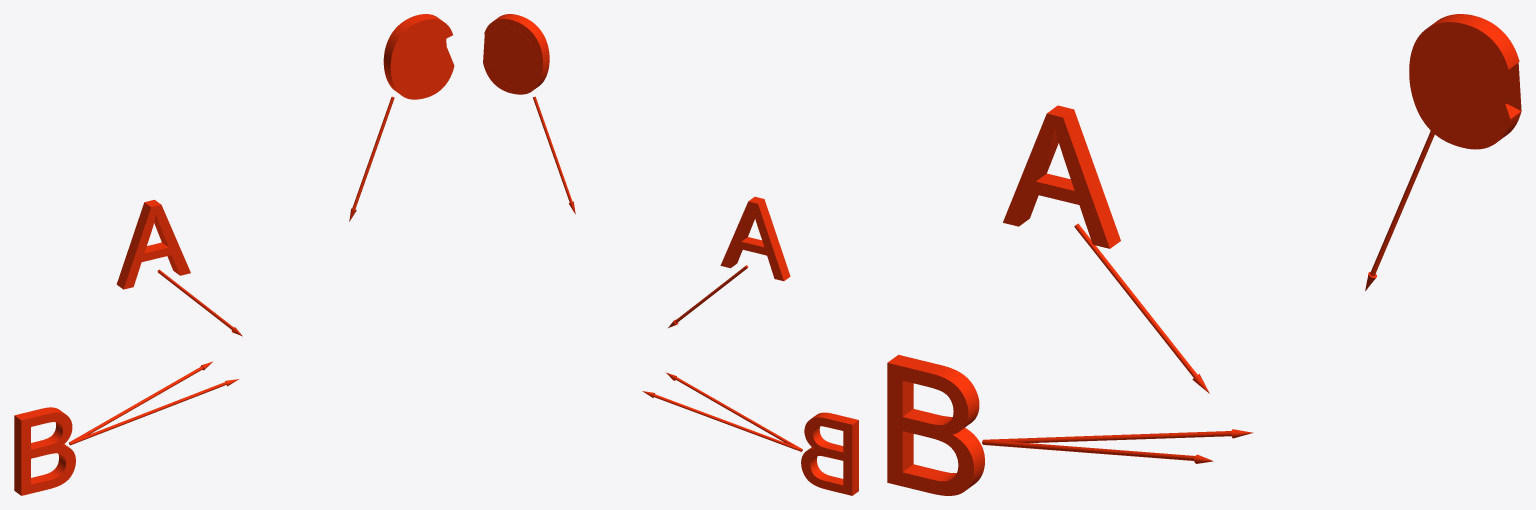
The model's file is 2.3arrow.obj.
The picture shows the model from 3 angles, left to right: view 1: azimuth 30°, elevation 25°; view 2: azimuth 150°, elevation 25°; view 3: azimuth 330°, elevation 25°; orthographic projection. The views are drawn at different scales.
Size of the model in its own units: 8.57 by 7.88 by 1.44.
